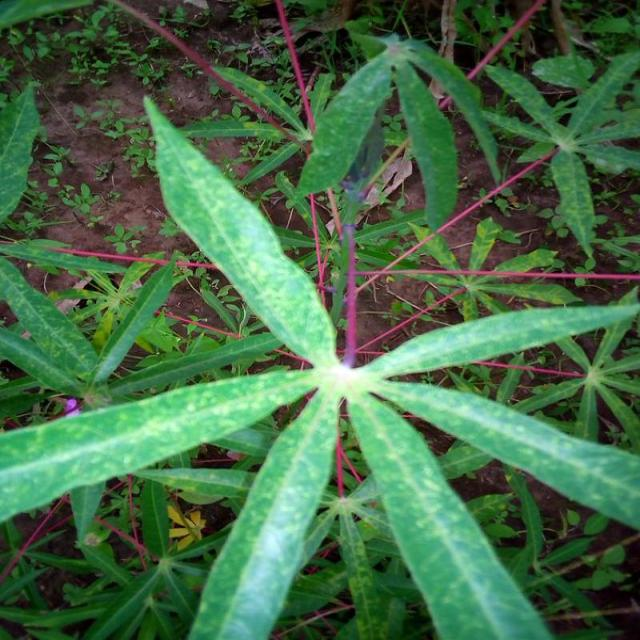cassava leaf: (1, 88, 638, 638), (142, 93, 338, 368), (346, 388, 554, 638), (0, 364, 317, 525), (295, 33, 501, 234), (186, 386, 340, 638)
